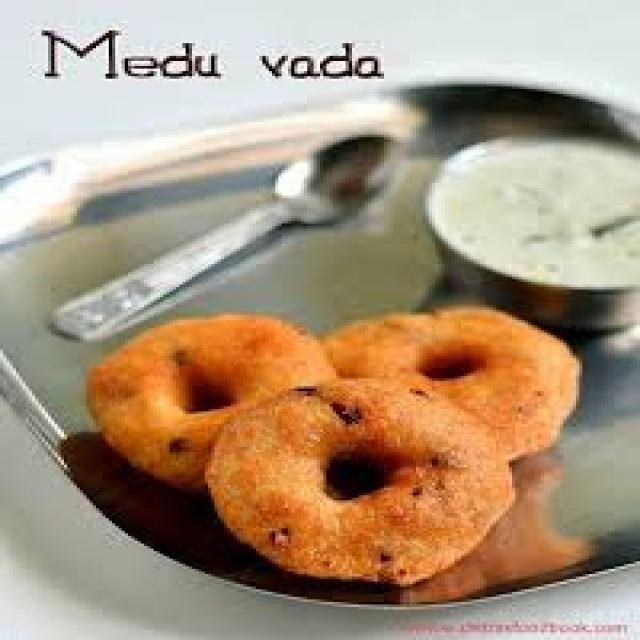MEDU VADA: (210, 373, 522, 589), (198, 386, 520, 587), (84, 320, 333, 481), (332, 310, 582, 469)
